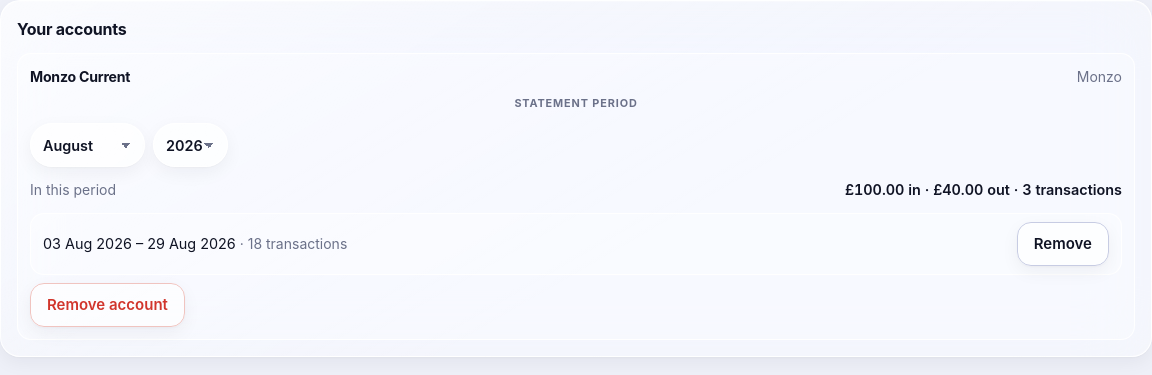
Test case: accounts and their statements › updates the "In this period" figures when the selected month changes
This screenshot has width=1152, height=375.
Expected: the text "£100.00 in · £40.00 out · 3 transactions" is shown, [845,179,1122,201]
Select "January" in the dropdown named "Statement month" at (88, 145), box [30,123,145,167]
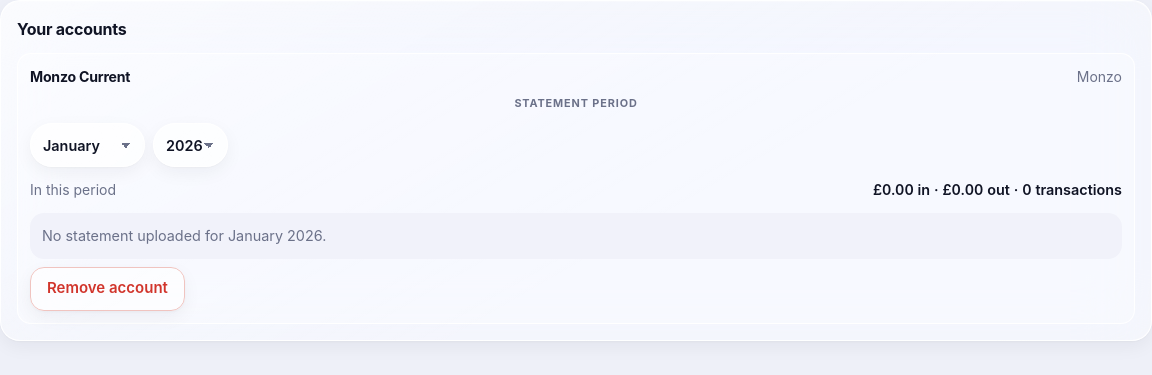
Result: the text "£0.00 in · £0.00 out · 0 transactions" is shown at [873,179,1122,201]
Result: the text "£100.00 in · £40.00 out · 3 transactions" is gone
